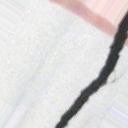crackTip: (53, 4, 127, 127)
